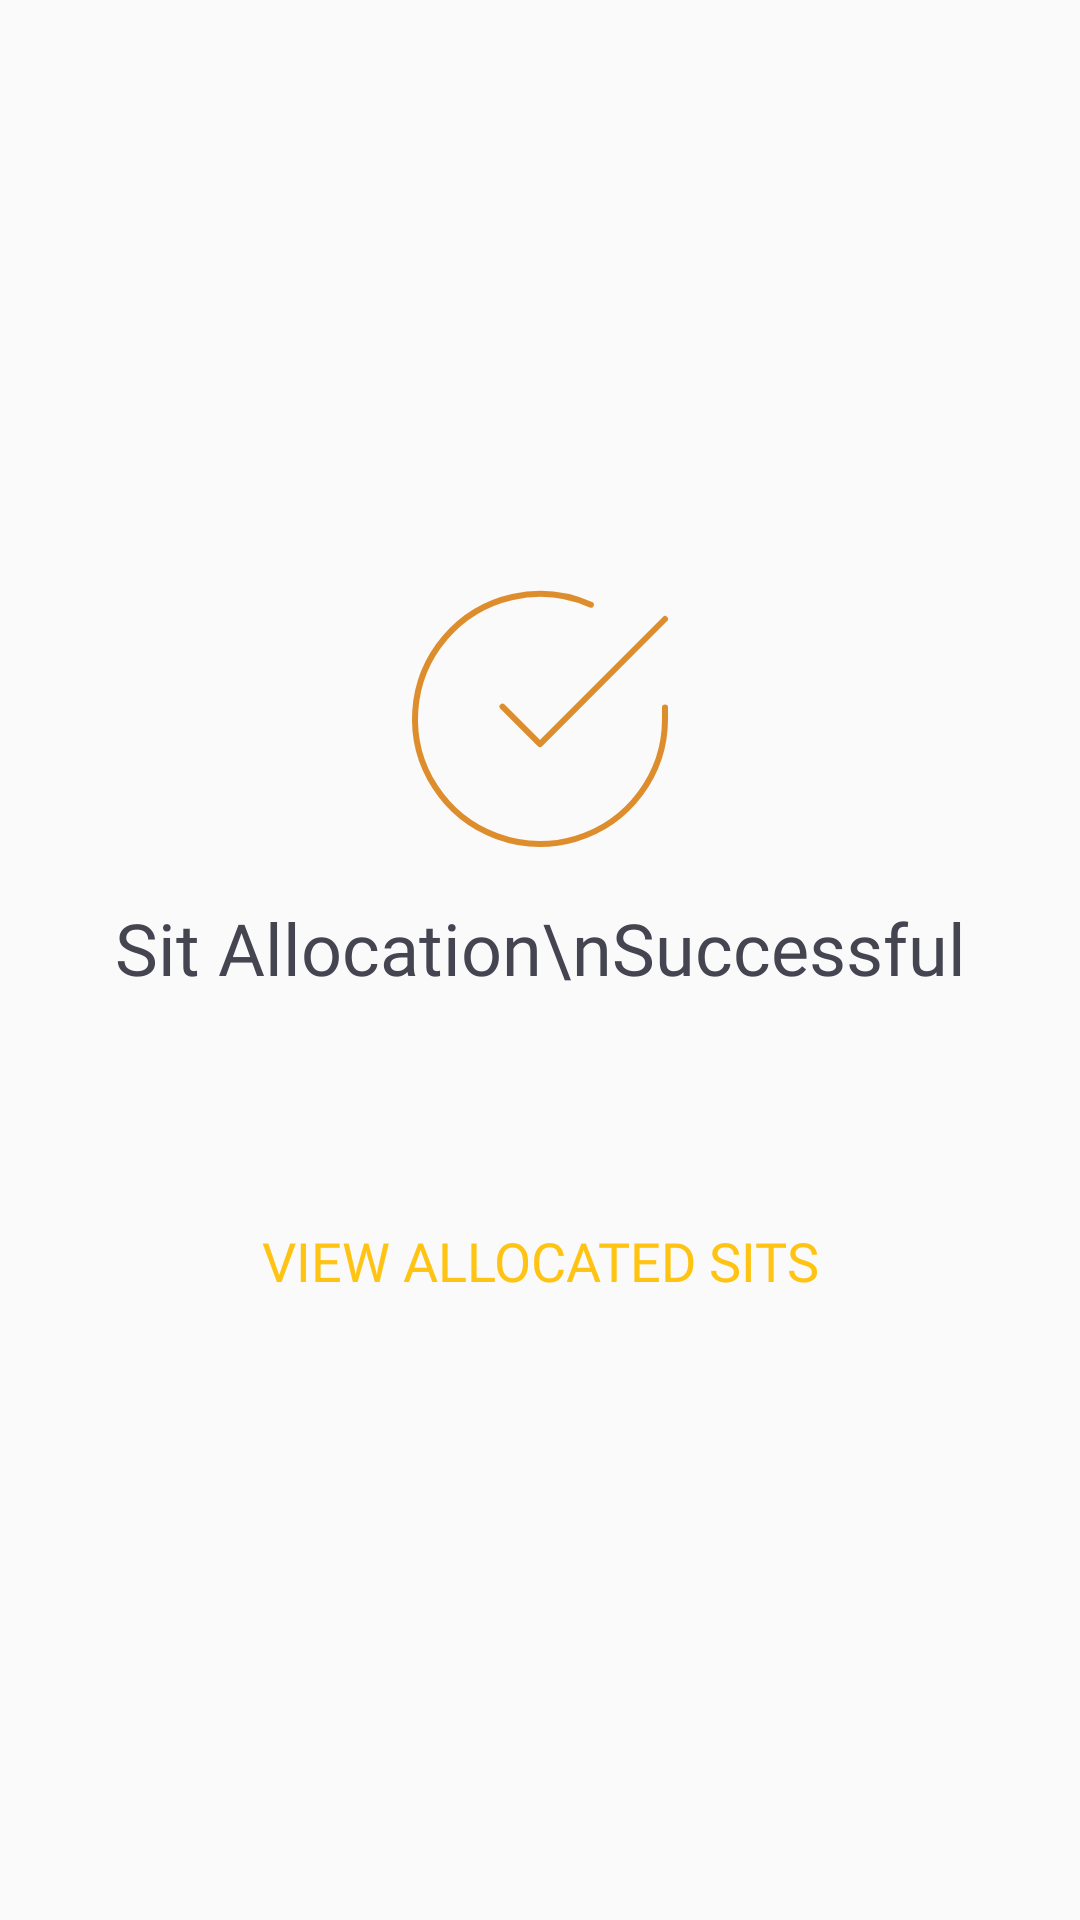

Icons on this 1080px x 1920px Android screen, each with the point to tap as point (x, y):
check circle: point (540, 718)
